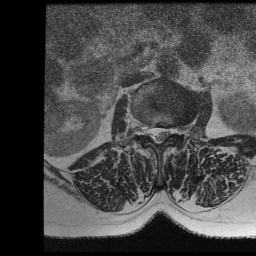CCS_normal: (154, 120, 162, 150)
LFS_normal: (170, 119, 179, 142)
LLS_normal: (162, 119, 170, 145)
RFS_normal: (138, 114, 147, 141)
RLS_normal: (146, 119, 154, 145)
